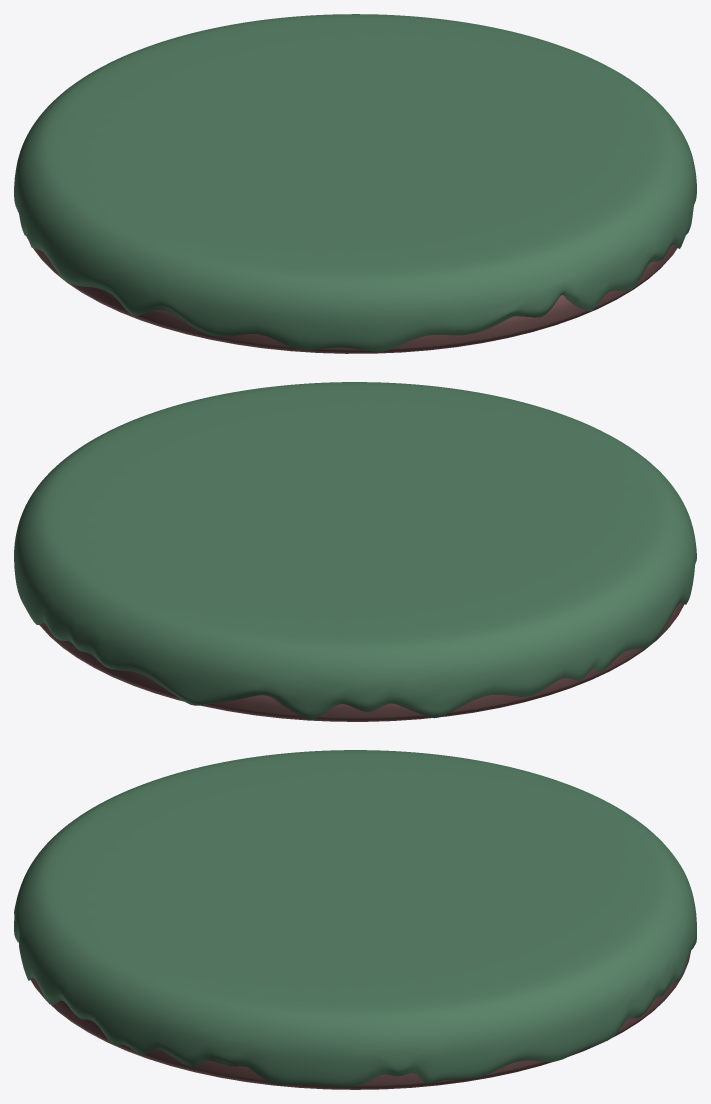
File: Diorama2.fbx
The picture shows the model from 3 angles, top to bottom: view 1: azimuth 30°, elevation 25°; view 2: azimuth 150°, elevation 25°; view 3: azimuth 270°, elevation 25°; orthographic projection.
Parts seen in each view (by area): view 1: polySurface3, polySurface4; view 2: polySurface3, polySurface4; view 3: polySurface3, polySurface4.
Boxes of the visible parts, x1,y1,x2,y2 form: polySurface3: [14, 14, 696, 351]; polySurface4: [26, 234, 677, 353]; polySurface3: [14, 382, 696, 719]; polySurface4: [39, 602, 684, 721]; polySurface3: [14, 750, 696, 1087]; polySurface4: [30, 951, 690, 1089].
Bounding box in the file's own units: 22.78 × 2.71 × 22.78.
